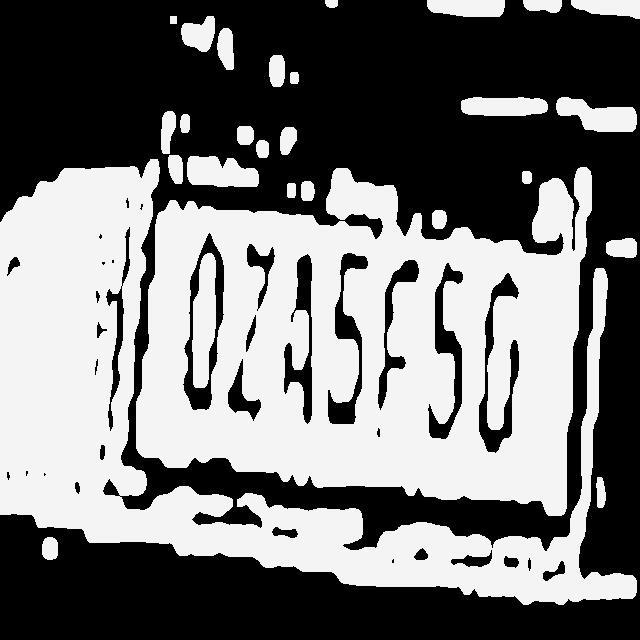0: (474, 270, 528, 458)
5: (426, 262, 472, 448), (327, 248, 369, 430)
a: (280, 248, 318, 428)
f: (374, 257, 418, 442)
q: (182, 230, 226, 415)
z: (230, 235, 278, 423)
